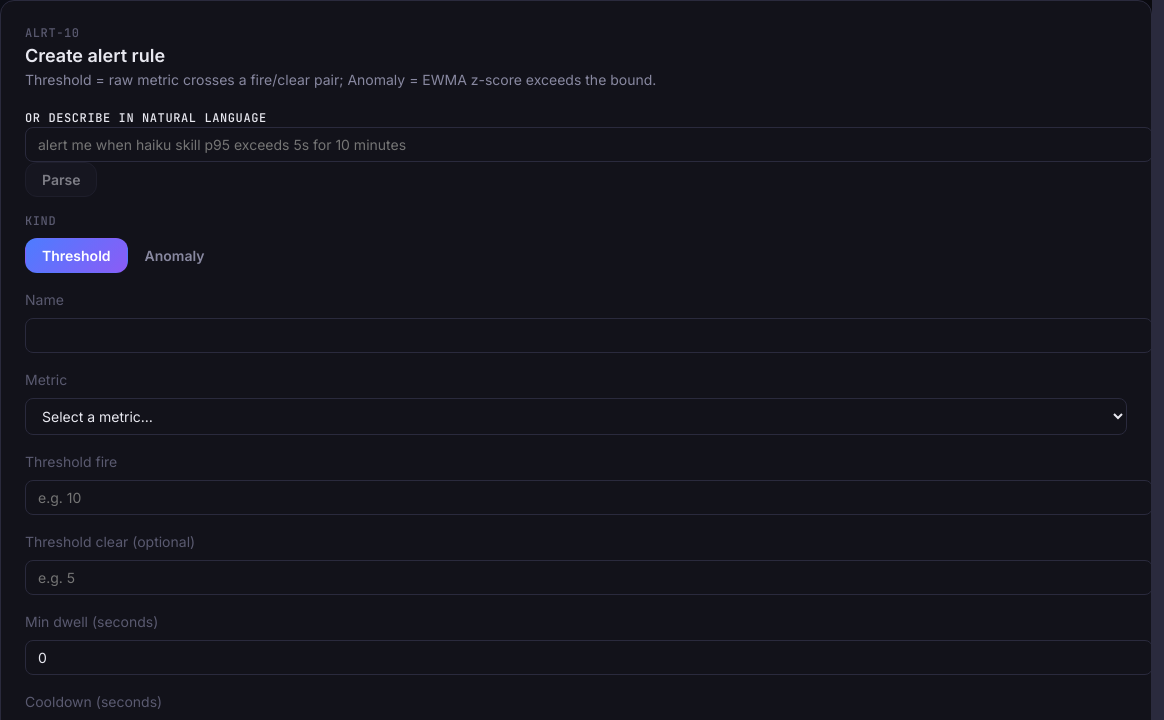
Test: AlertRuleForm — TDBT-03 (Phase 27 Plan 27-08): AlertNlInput 503 retry UX › TDBT-03: non-specific copy invariant — NO "credentials missing" / "Anthropic" / "API key" strings
Type "alert me when haiku skill p95 spikes" into the field labelled "Or describe in natural language".
click(588, 144); type("alert me when haiku skill p95 spikes")  # box left=25, top=127, right=1152, bottom=162
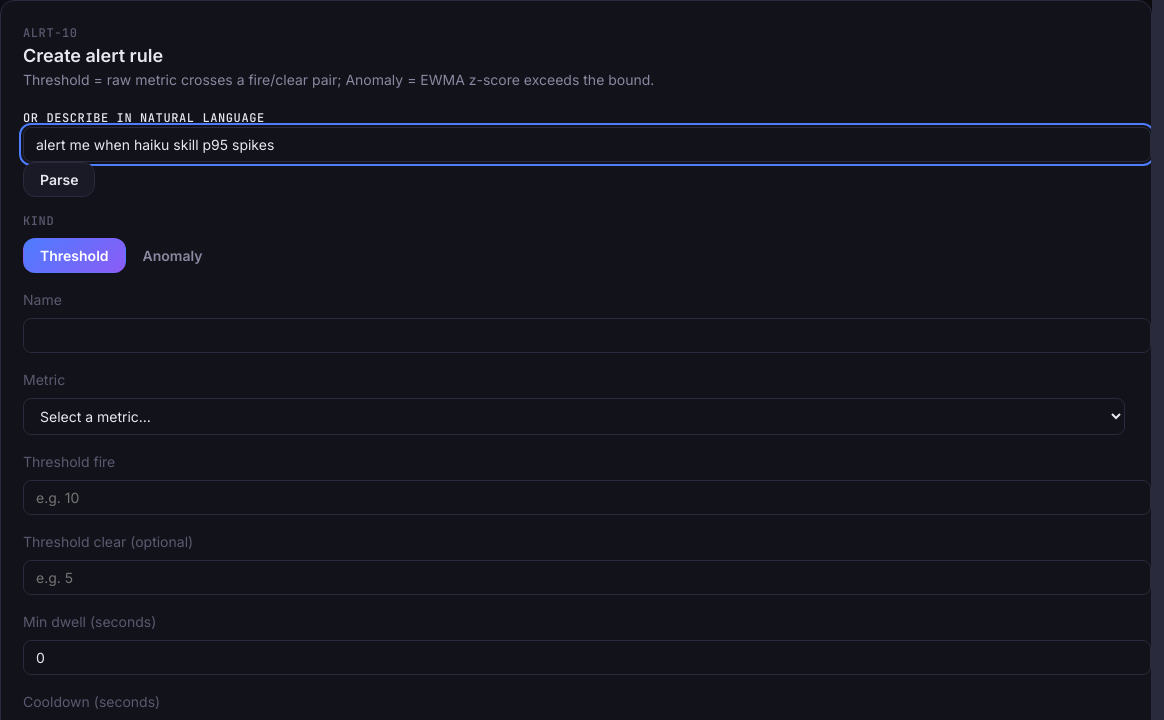
Click the button "Parse".
click(59, 179)  # box left=23, top=162, right=96, bottom=197
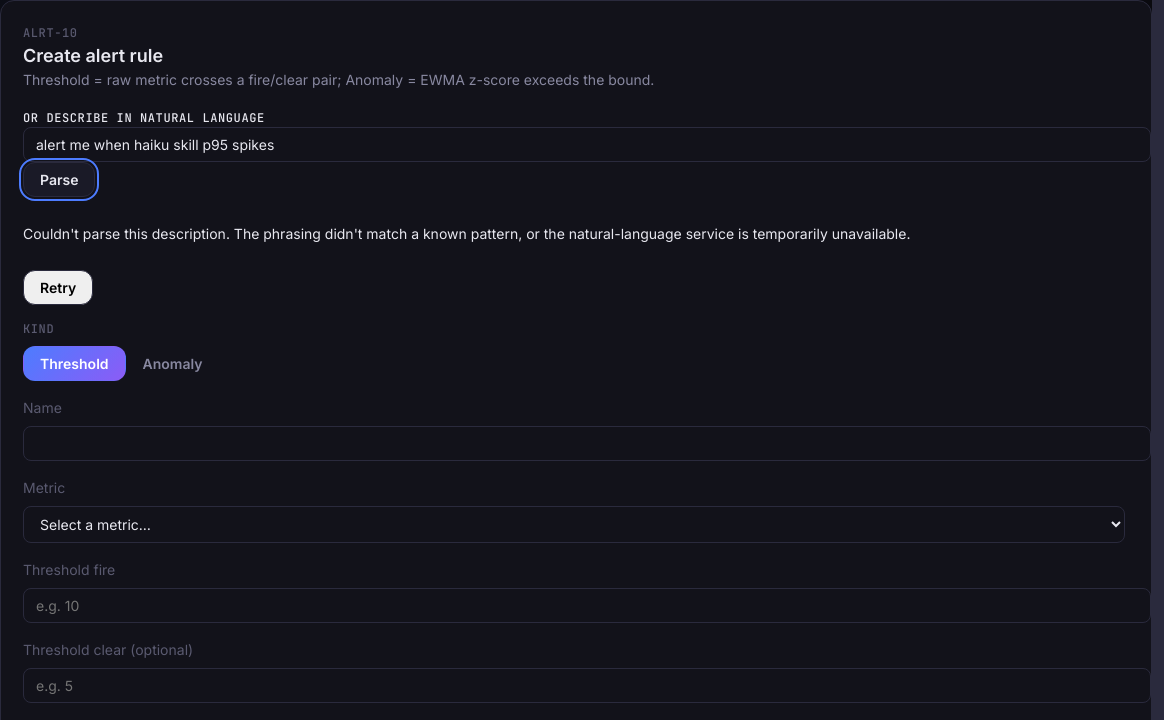
Now the button with test id "alert-nl-retry" is shown, box left=23, top=270, right=93, bottom=305
Now the message is shown, box left=23, top=225, right=910, bottom=305
